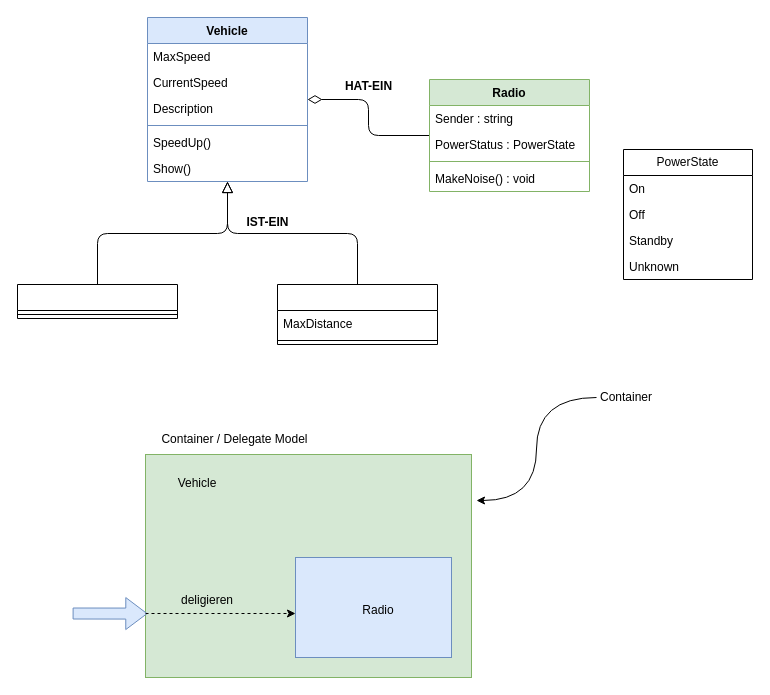
This 770x695 diagram has some shape labels left out. The box of each missing label's shape, as (x1, y1, x2, y2) in pixels:
Car: (16, 284, 178, 318)
Scooter: (276, 284, 438, 344)
